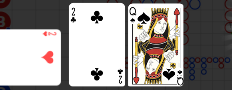2C: (69, 6, 77, 23)
QS: (119, 8, 145, 32), (153, 62, 179, 86)
